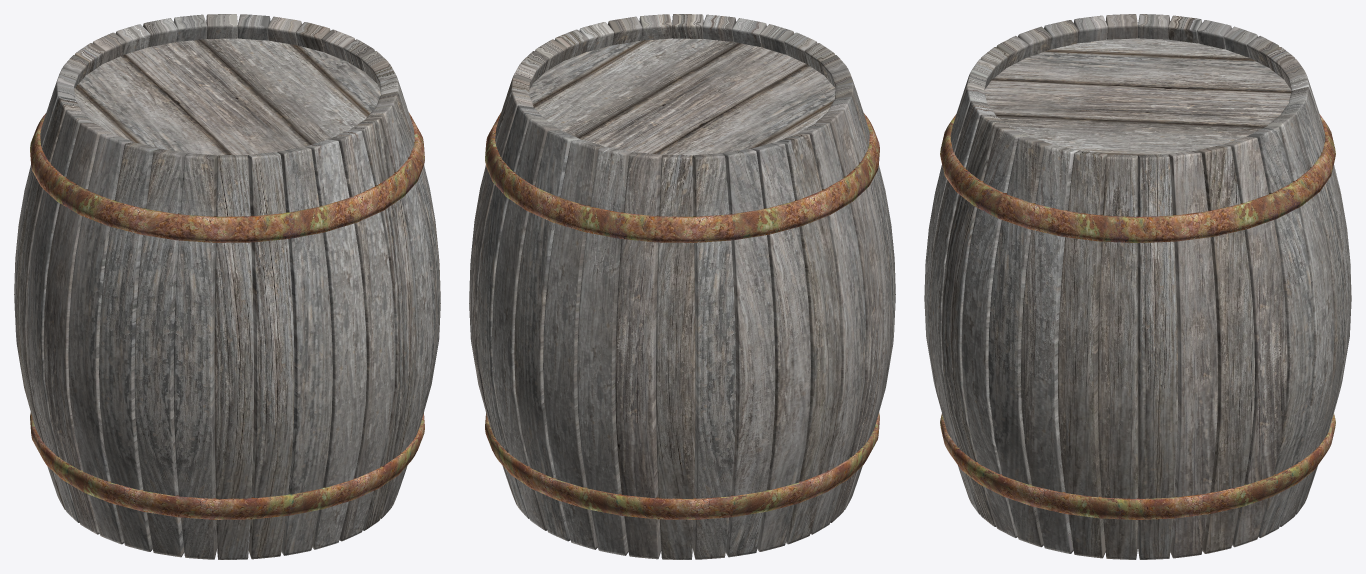
Rendered from Barrel.glb.
3 views of the same model, side by side, from view 1: azimuth 30°, elevation 25°; view 2: azimuth 150°, elevation 25°; view 3: azimuth 270°, elevation 25° (orthographic).
Visible parts, largest first — view 1: Barrel, Circle.003, Circle.002; view 2: Barrel, Circle.003, Circle.002; view 3: Barrel, Circle.003, Circle.002.
Part boxes in pixels (x1,y1,x2,y2): Barrel: [14, 14, 440, 559]; Circle.003: [74, 38, 380, 155]; Circle.002: [30, 113, 424, 519]; Barrel: [469, 14, 895, 559]; Circle.003: [529, 38, 835, 155]; Circle.002: [485, 113, 879, 519]; Barrel: [924, 14, 1351, 559]; Circle.003: [984, 38, 1291, 155]; Circle.002: [940, 114, 1335, 519].
Size of the model in its own units: 2.69 by 2.79 by 2.69.
3 materials, 3 textured.
